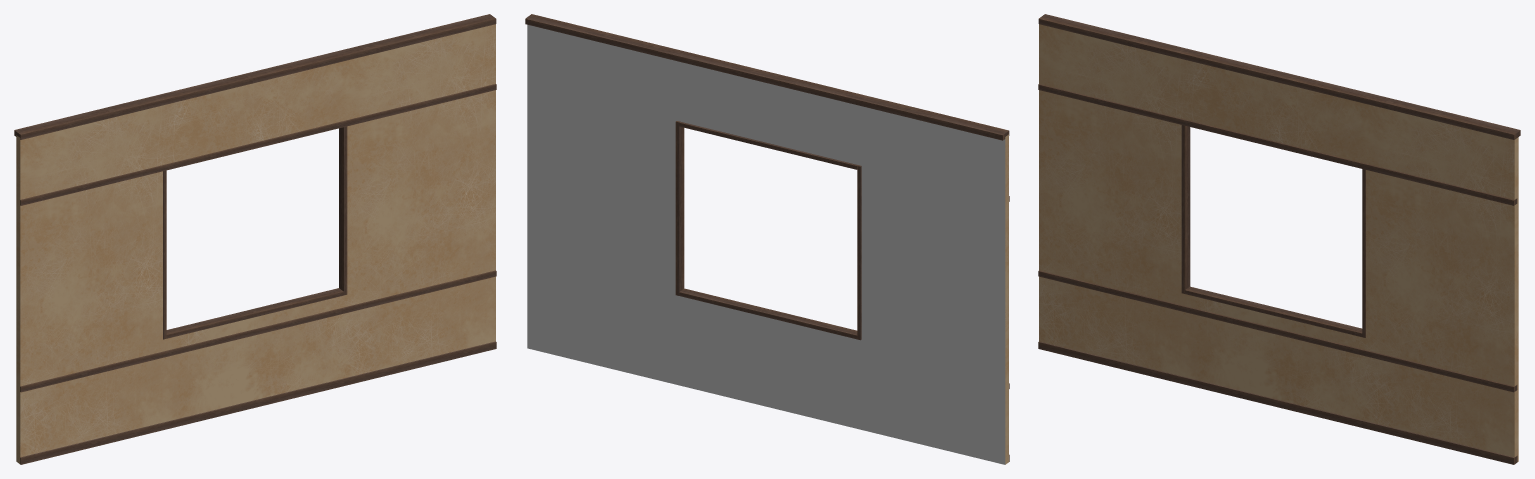
File: jov_outwall01_2t_mado_b1.fbx
The picture shows the model from 3 angles, left to right: view 1: azimuth 30°, elevation 25°; view 2: azimuth 150°, elevation 25°; view 3: azimuth 330°, elevation 25°; orthographic projection.
Parts seen in each view (by area): view 1: jov_outwall01_2t_mado_b1; view 2: jov_outwall01_2t_mado_b1; view 3: jov_outwall01_2t_mado_b1.
Boxes of the visible parts, x1=… form: jov_outwall01_2t_mado_b1: x1=14, y1=14, x2=496, y2=464; jov_outwall01_2t_mado_b1: x1=525, y1=14, x2=1009, y2=464; jov_outwall01_2t_mado_b1: x1=1038, y1=14, x2=1520, y2=464.
Bounding box in the file's own units: 440 × 292 × 11.05.
